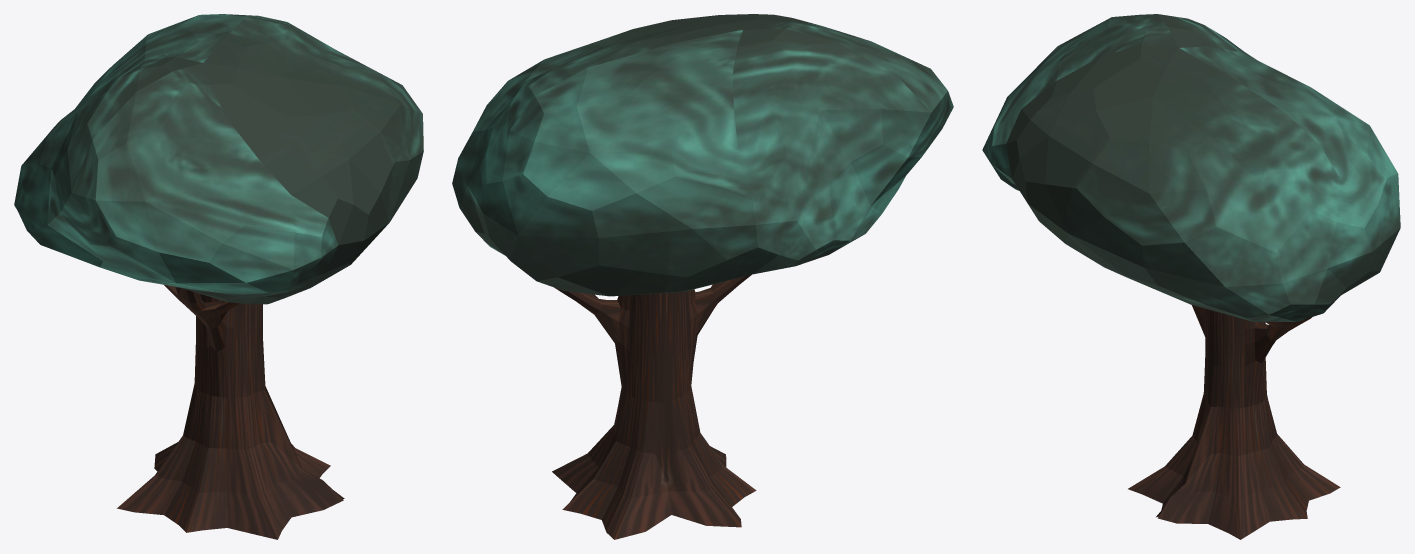
Rendered from Tree 1.fbx.
The picture shows the model from 3 angles, left to right: view 1: azimuth 30°, elevation 25°; view 2: azimuth 150°, elevation 25°; view 3: azimuth 270°, elevation 25°; orthographic projection. The views are drawn at different scales.
Visible parts, largest first — view 1: Icosphere.002, Cylinder.002; view 2: Icosphere.002, Cylinder.002; view 3: Icosphere.002, Cylinder.002.
Boxes of the visible parts, x1,y1,x2,y2 form: Icosphere.002: [14, 14, 423, 304]; Cylinder.002: [117, 285, 344, 539]; Icosphere.002: [452, 14, 953, 296]; Cylinder.002: [552, 274, 756, 539]; Icosphere.002: [982, 14, 1400, 321]; Cylinder.002: [1128, 305, 1340, 539].
Size of the model in its own units: 1343 by 1498 by 1335.
